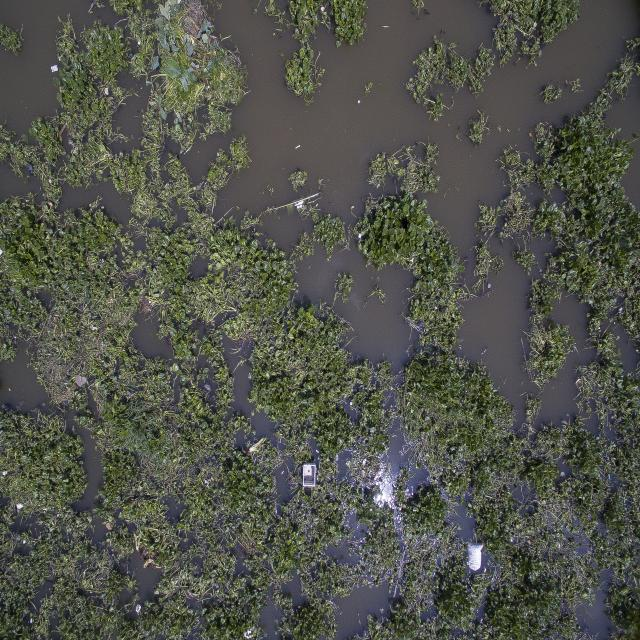plastic: (466, 540, 486, 576), (301, 462, 319, 491)
